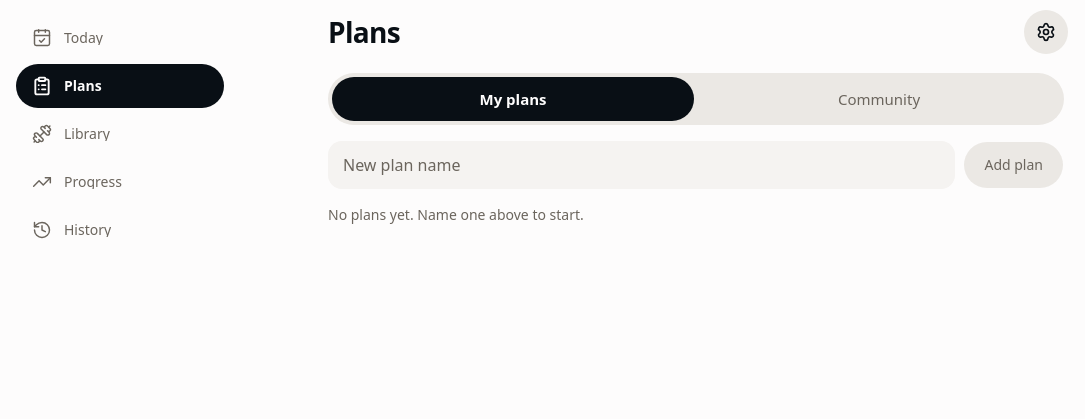
Test: the Plans toggle opens Community without a session and keeps five tabs
Click the link "Community" at point(879, 99), box [838,89,920,109]
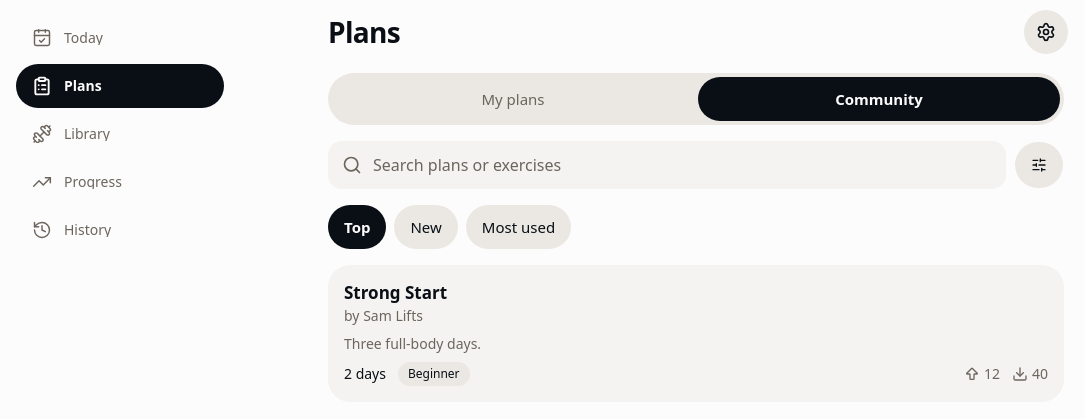
Expected: the link "Strong Start" is shown, [328,265,1064,402]
